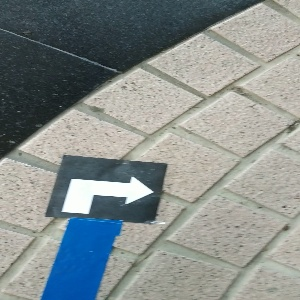right: (45, 155, 165, 221)
